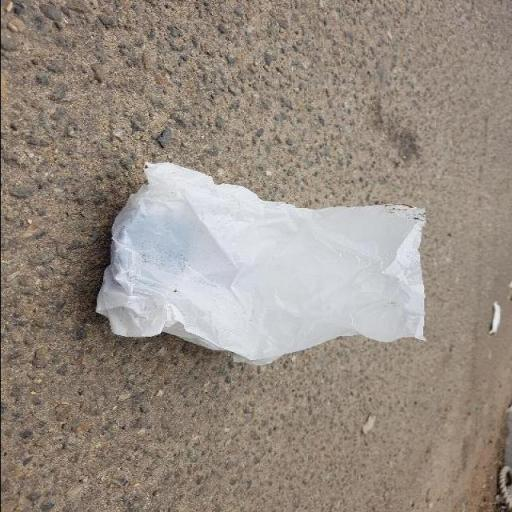plastic-bag: (88, 160, 432, 370)
